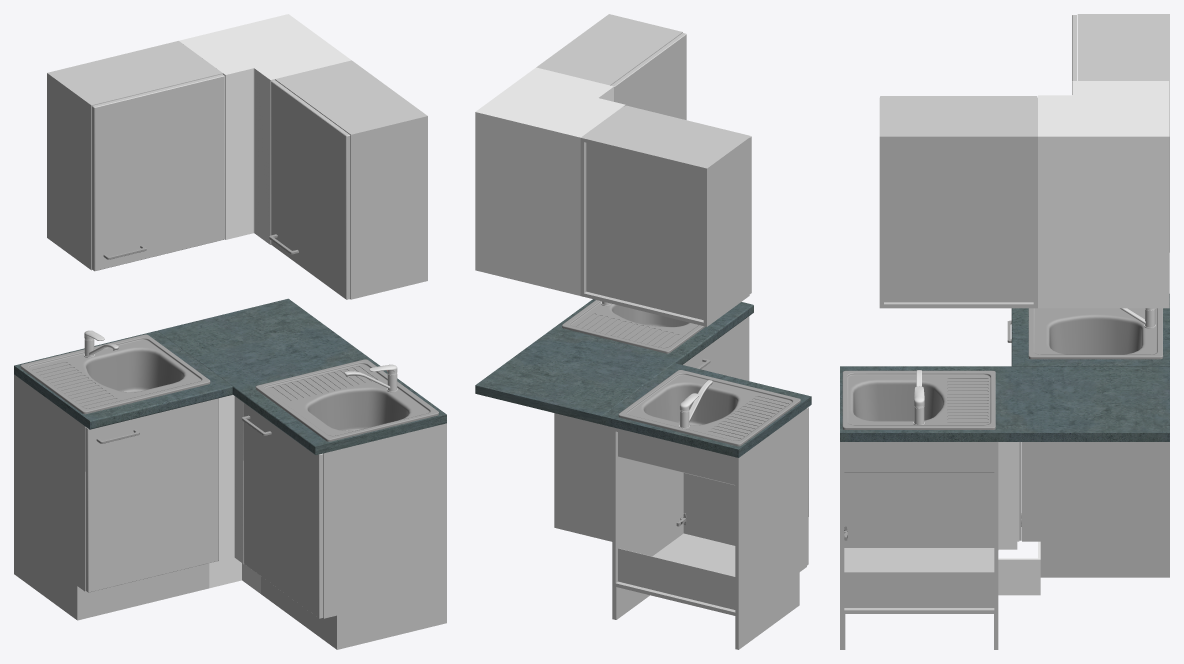
File: kitchen.gltf
3 renders of one model, left to right at view 1: azimuth 30°, elevation 25°; view 2: azimuth 150°, elevation 25°; view 3: azimuth 270°, elevation 25°, orthographic. The views are drawn at different scales.
Visible parts, largest first — view 1: front_Tür_60x717 (×2), front_Tür_600x720002 (×2), body.SPUD60_0 (×2), body_W60_02 (×2), worktop_Arbeitsplatte (×2), Spüle_einzeln_Edelstahl (×2), corner_up, front_Sockel_Front (×2), Ecklosung_UPE, body_Sockel_Side_left, body_Sockel_Side_right, front_Sockel_Front003; view 2: body_W60_02 (×2), body.SPUD60_0 (×2), corner_up, worktop_Arbeitsplatte (×2), Spüle_einzeln_Edelstahl (×2), front_Tür_600x720002 (×2), front_Tür_60x717 (×2), body_Sockel_Side_right (×2), body_Sockel_Side_left, Circle.002_0, body.SPUD60_1; view 3: body_W60_02 (×2), body.SPUD60_0 (×2), corner_up, worktop_Arbeitsplatte (×2), Spüle_einzeln_Edelstahl (×2), front_Tür_600x720002, body_Sockel_Side_left, Ecklosung_UPE, front_Sockel_Front003, body.SPUD60_1, Circle.002_0.
Boxes of the visible parts, x1=… form: front_Tür_60x717 (×2): x1=92, y1=74, x2=350, y2=299; front_Tür_600x720002 (×2): x1=85, y1=398, x2=323, y2=618; body.SPUD60_0 (×2): x1=14, y1=374, x2=446, y2=618; body_W60_02 (×2): x1=47, y1=41, x2=427, y2=299; worktop_Arbeitsplatte (×2): x1=14, y1=298, x2=446, y2=454; Spüle_einzeln_Edelstahl (×2): x1=20, y1=334, x2=438, y2=441; corner_up: x1=179, y1=14, x2=351, y2=244; front_Sockel_Front (×2): x1=76, y1=563, x2=339, y2=649; Ecklosung_UPE: x1=218, y1=395, x2=243, y2=563; body_Sockel_Side_left: x1=339, y1=589, x2=446, y2=649; body_Sockel_Side_right: x1=14, y1=540, x2=76, y2=619; front_Sockel_Front003: x1=209, y1=557, x2=260, y2=593; body_W60_02 (×2): x1=536, y1=14, x2=749, y2=326; body.SPUD60_0 (×2): x1=554, y1=408, x2=806, y2=616; corner_up: x1=475, y1=67, x2=625, y2=295; worktop_Arbeitsplatte (×2): x1=475, y1=299, x2=811, y2=457; Spüle_einzeln_Edelstahl (×2): x1=562, y1=300, x2=800, y2=446; front_Tür_600x720002 (×2): x1=683, y1=316, x2=808, y2=565; front_Tür_60x717 (×2): x1=611, y1=33, x2=751, y2=293; body_Sockel_Side_right (×2): x1=554, y1=494, x2=798, y2=649; body_Sockel_Side_left: x1=612, y1=586, x2=649, y2=619; Circle.002_0: x1=679, y1=380, x2=712, y2=428; body.SPUD60_1: x1=615, y1=428, x2=735, y2=460; body_W60_02 (×2): x1=879, y1=14, x2=1169, y2=308; body.SPUD60_0 (×2): x1=840, y1=442, x2=1169, y2=613; corner_up: x1=1038, y1=81, x2=1169, y2=308; worktop_Arbeitsplatte (×2): x1=840, y1=294, x2=1169, y2=441; Spüle_einzeln_Edelstahl (×2): x1=842, y1=308, x2=1162, y2=429; front_Tür_600x720002: x1=844, y1=473, x2=994, y2=547; body_Sockel_Side_left: x1=1040, y1=541, x2=1169, y2=577; Ecklosung_UPE: x1=998, y1=442, x2=1019, y2=549; front_Sockel_Front003: x1=998, y1=541, x2=1040, y2=595; body.SPUD60_1: x1=844, y1=442, x2=994, y2=445; Circle.002_0: x1=913, y1=370, x2=925, y2=424.
Size of what is drawn, in the model's own units: 1.25 by 2.15 by 1.25.
14 materials, 2 textured.
